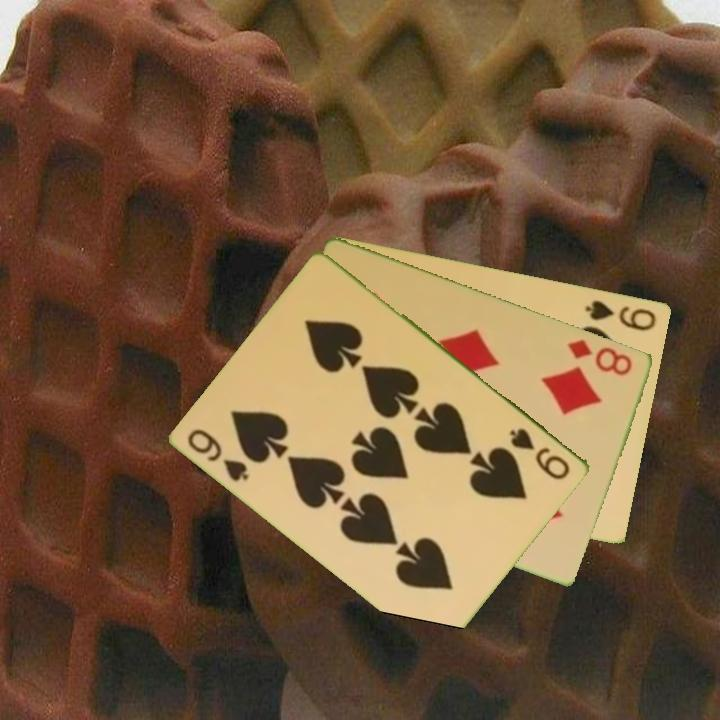8d: (564, 335, 636, 379)
9s: (506, 424, 574, 483), (184, 425, 252, 484), (582, 296, 660, 334)
